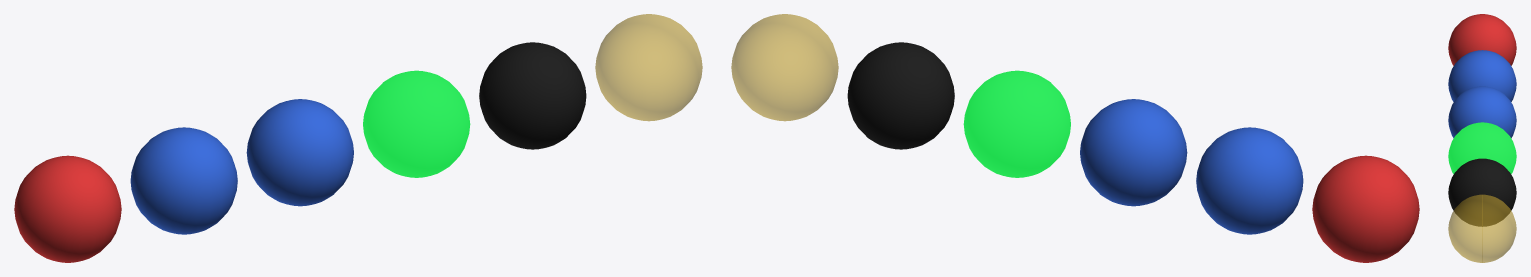
Rendered from m04_material_properties.fbx.
3 views of the same model, side by side, from view 1: azimuth 30°, elevation 25°; view 2: azimuth 150°, elevation 25°; view 3: azimuth 270°, elevation 25° (orthographic). The views are drawn at different scales.
Visible parts, largest first — view 1: PhongTight, Ambient, PhongBroad, Emissive, Lambert, Transparent; view 2: PhongTight, Ambient, PhongBroad, Emissive, Lambert, Transparent; view 3: Ambient, Transparent, PhongTight, Lambert, PhongBroad, Emissive.
Boxes of the visible parts, x1,y1,x2,y2 form: PhongTight: (130, 127, 237, 234); Ambient: (479, 42, 586, 149); PhongBroad: (246, 99, 353, 206); Emissive: (363, 70, 470, 177); Lambert: (14, 155, 121, 262); Transparent: (595, 14, 702, 121); PhongTight: (1196, 127, 1303, 234); Ambient: (847, 42, 954, 149); PhongBroad: (1080, 99, 1187, 206); Emissive: (963, 70, 1070, 177); Lambert: (1312, 155, 1419, 262); Transparent: (731, 14, 838, 121); Ambient: (1448, 158, 1516, 226); Transparent: (1448, 194, 1516, 262); PhongTight: (1448, 50, 1516, 101); Lambert: (1448, 14, 1516, 65); PhongBroad: (1448, 86, 1516, 138); Emissive: (1448, 122, 1516, 174).
Bounding box in the file's own units: 7.25 × 1 × 1.
